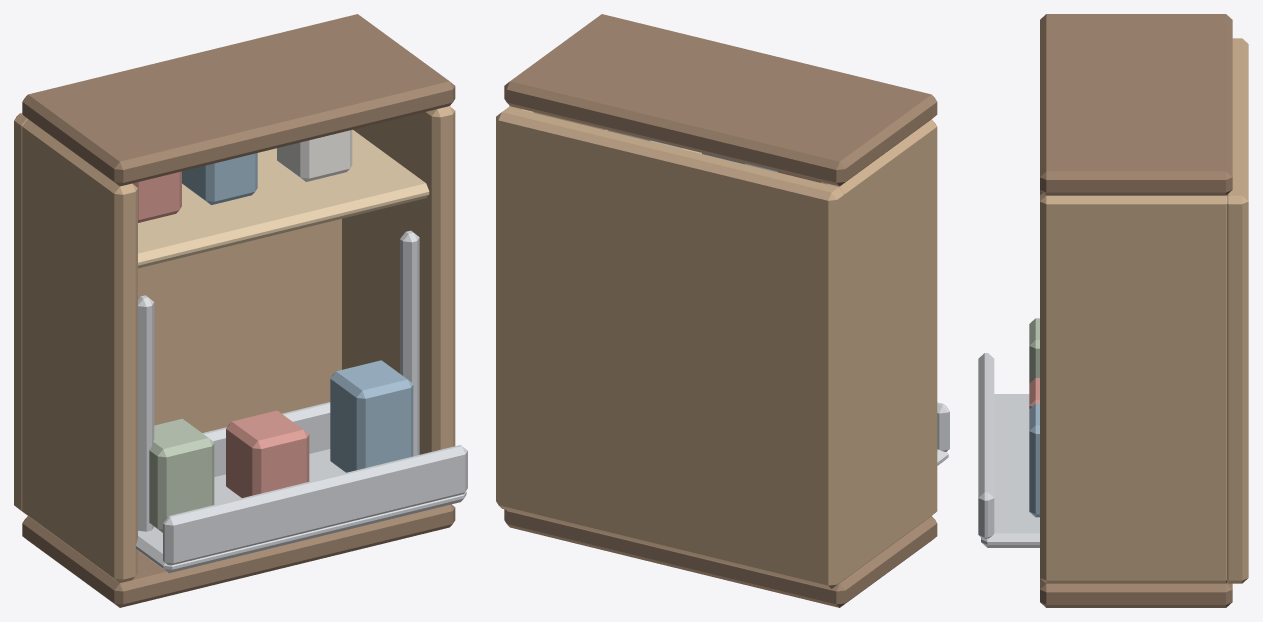
Rendered from PullDownCabinetShelf.glb.
3 views of the same model, side by side, from view 1: azimuth 30°, elevation 25°; view 2: azimuth 150°, elevation 25°; view 3: azimuth 270°, elevation 25° (orthographic). The views are drawn at different scales.
Visible parts, largest first — view 1: PullDownShelf_Cabinet, PullDownShelf_Basket; view 2: PullDownShelf_Cabinet, PullDownShelf_Basket; view 3: PullDownShelf_Cabinet, PullDownShelf_Basket.
Boxes of the visible parts, x1,y1,x2,y2 form: PullDownShelf_Cabinet: (14, 14, 455, 607); PullDownShelf_Basket: (136, 230, 467, 573); PullDownShelf_Cabinet: (496, 14, 937, 607); PullDownShelf_Basket: (937, 402, 949, 465); PullDownShelf_Cabinet: (1040, 14, 1248, 607); PullDownShelf_Basket: (978, 318, 1039, 547).
Size of the model in its own units: 0.72 by 0.9 by 0.505.
